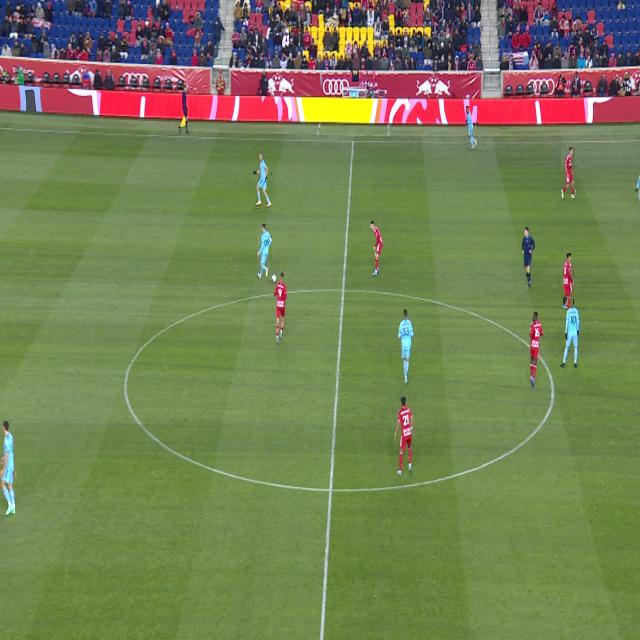football: (272, 273, 277, 283)
player: (0, 421, 15, 515), (395, 397, 413, 475), (560, 298, 579, 367), (398, 310, 414, 383), (530, 312, 543, 384), (254, 153, 271, 207), (275, 273, 287, 343), (257, 224, 272, 280), (370, 221, 383, 275), (562, 147, 575, 198), (564, 254, 573, 308), (466, 107, 477, 149), (636, 175, 640, 192), (639, 188, 640, 201)
referee: (522, 228, 535, 286)
